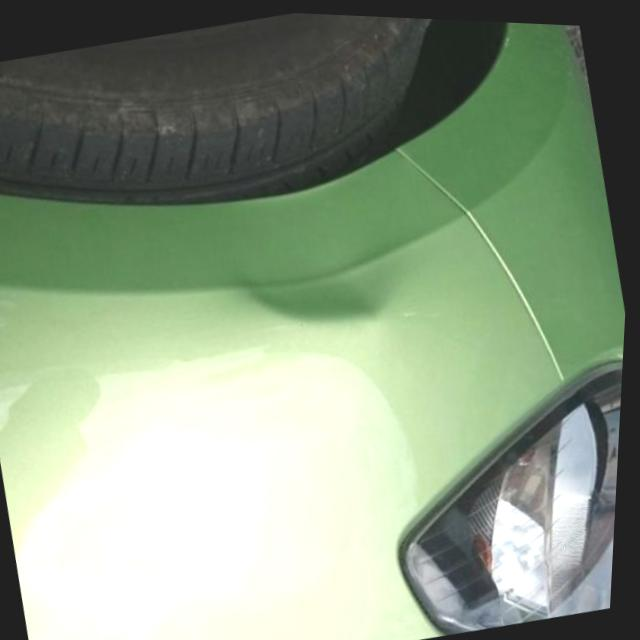Dent: (218, 217, 407, 323)
